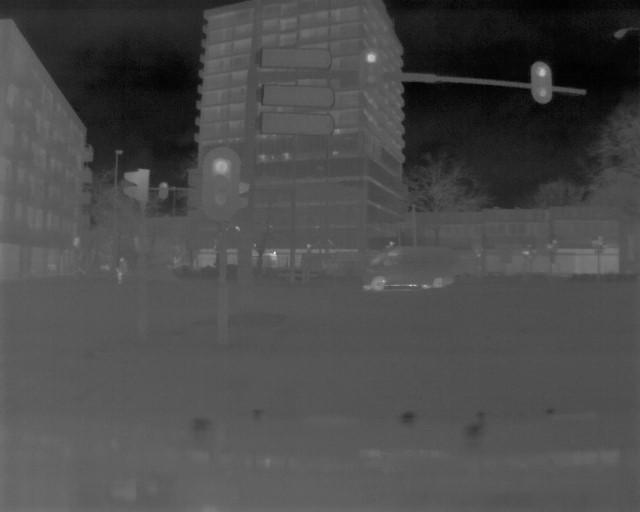car: (358, 242, 463, 289)
person: (115, 249, 130, 285)
